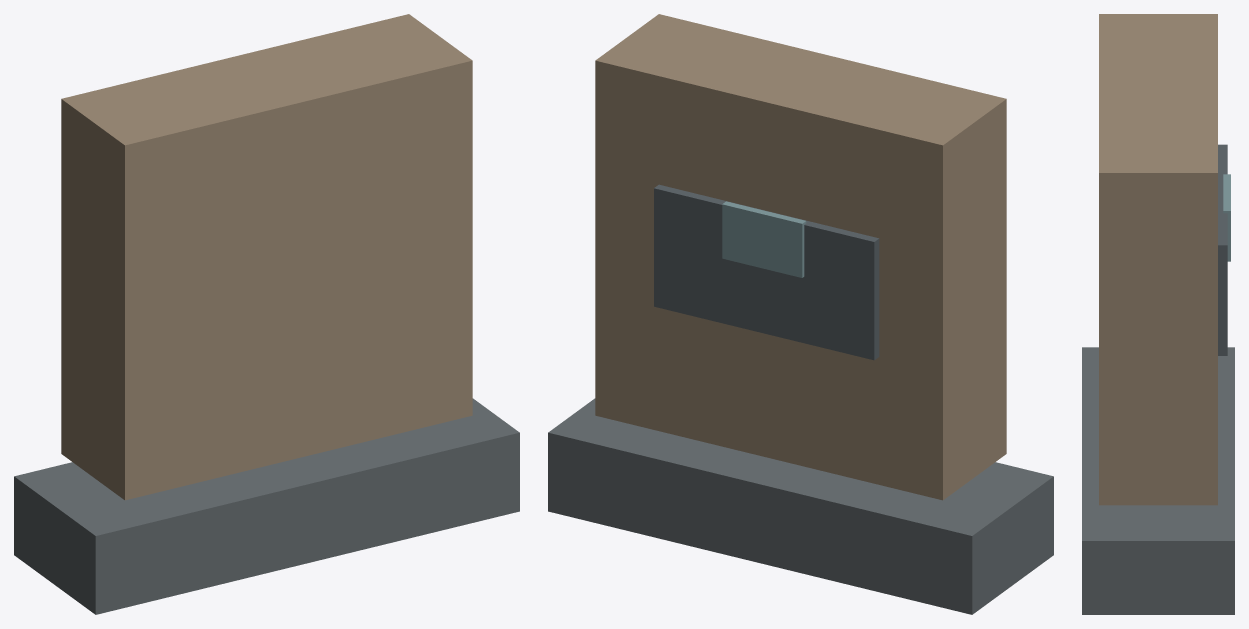
File: iz3_production_storage_02.glb
3 renders of one model, left to right at view 1: azimuth 30°, elevation 25°; view 2: azimuth 150°, elevation 25°; view 3: azimuth 270°, elevation 25°, orthographic. The views are drawn at different scales.
Visible parts, largest first — view 1: cabinet, base; view 2: cabinet, base, panel, display; view 3: cabinet, base, panel, display.
Part boxes in pixels (x1,y1,x2,y2): cabinet: (61, 14, 472, 500); base: (14, 398, 519, 614); cabinet: (595, 14, 1006, 500); base: (548, 398, 1053, 614); panel: (654, 184, 879, 360); display: (722, 201, 806, 277); cabinet: (1099, 14, 1217, 505); base: (1082, 347, 1234, 614); panel: (1218, 144, 1227, 355); display: (1223, 174, 1230, 261).
Bounding box in the file's own units: 1.8 × 1.84 × 0.6.
